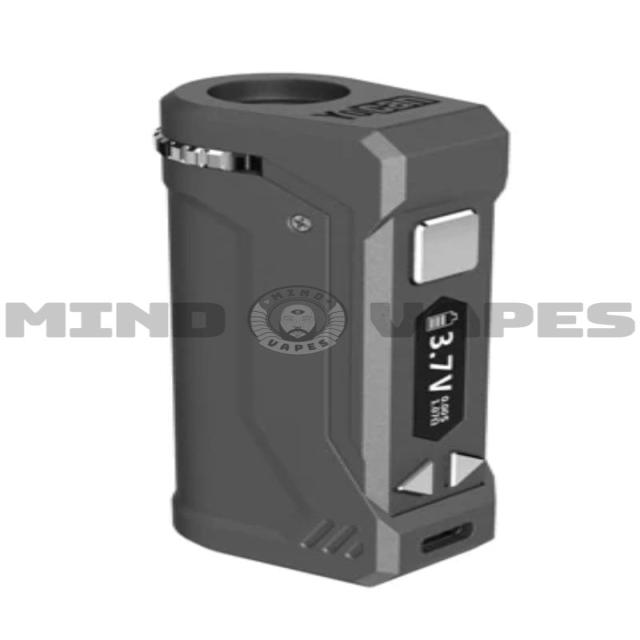Vape-images: (152, 71, 511, 587)
